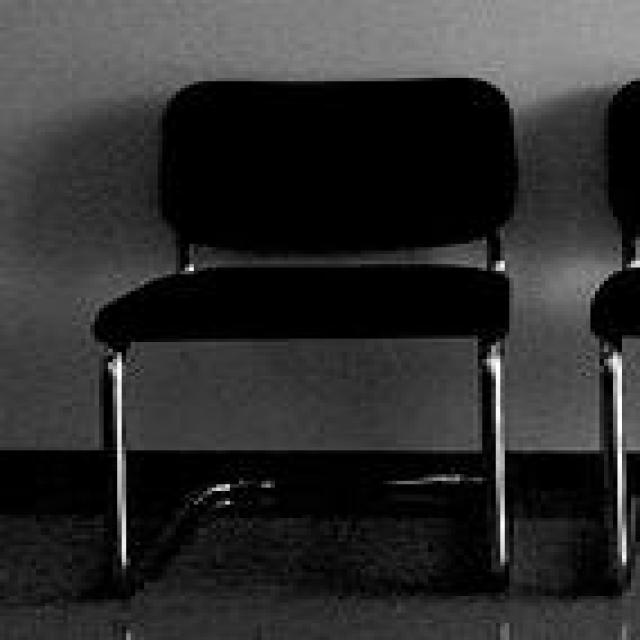chair: (90, 74, 518, 596), (586, 74, 635, 596)
